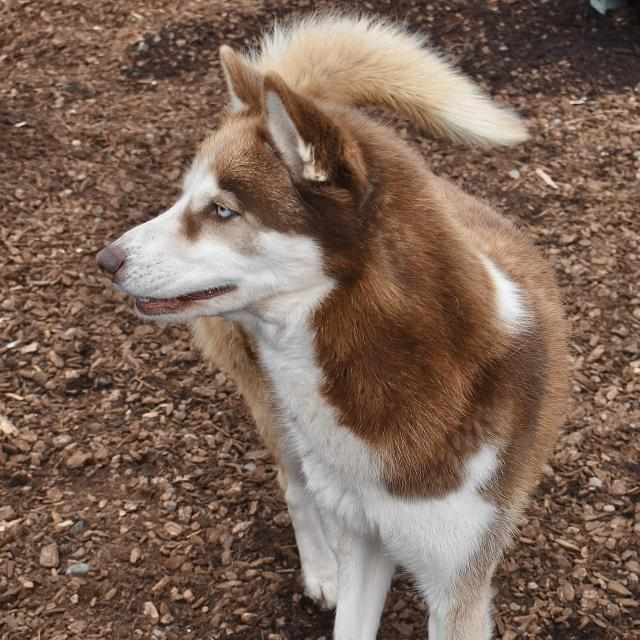siberian_husky_dog: (89, 43, 404, 358)
